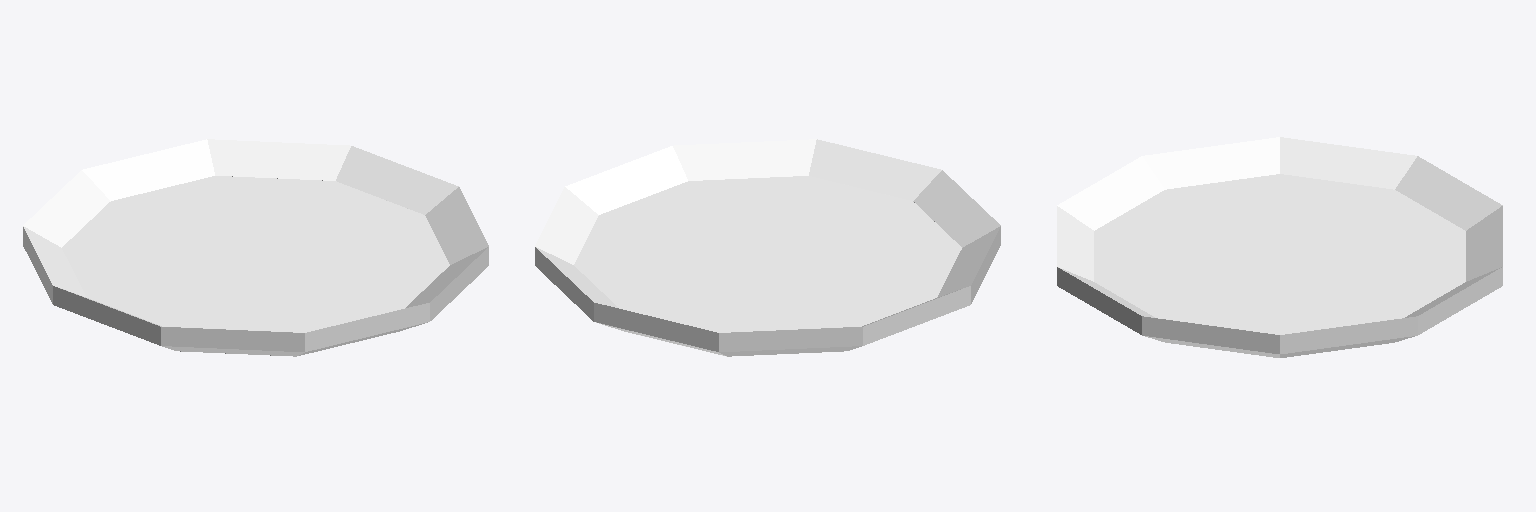
Rendered from unfiredplate.obj.
The picture shows the model from 3 angles: view 1: azimuth 30°, elevation 25°; view 2: azimuth 150°, elevation 25°; view 3: azimuth 270°, elevation 25°; orthographic projection.
Parts seen in each view (by area): view 1: g0; view 2: g0; view 3: g0.
Boxes of the visible parts, x1=… form: g0: x1=23, y1=139, x2=488, y2=356; g0: x1=535, y1=139, x2=1000, y2=356; g0: x1=1057, y1=137, x2=1502, y2=357.
Bounding box in the file's own units: 0.7898 × 0.074 × 0.7512.